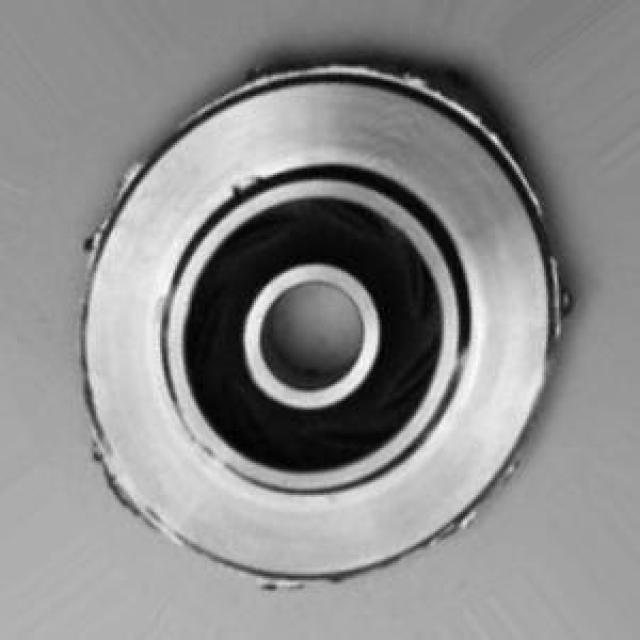Defect: (417, 66, 481, 124)
